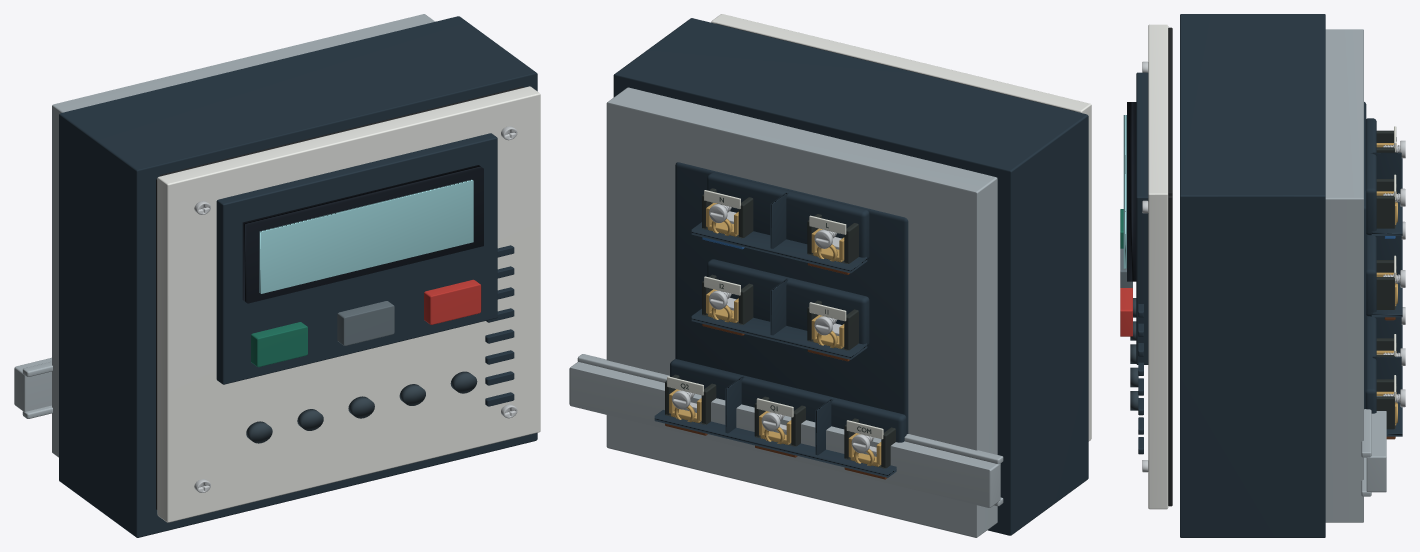
Rendered from plc_default.glb.
3 views of the same model, side by side, from view 1: azimuth 30°, elevation 25°; view 2: azimuth 150°, elevation 25°; view 3: azimuth 270°, elevation 25° (orthographic). The views are drawn at different scales.
Parts seen in each view (by area): view 1: part:body, part:cover, part:cover · Original a463fd81, part:display, part:mounting · Original 2a8198d3, part:body.003, part:body.002, part:body.001, detail:enclosure-gasket-and-fixings · Detail rubber gasket, detail:enclosure-gasket-and-fixings · Detail zinc plated fix; view 2: part:body, part:terminals · Original a463fd81, part:mounting · Original 2a8198d3, part:cover, detail:terminal-clamp:I2 · Detail moulded engineering polyme, detail:terminal-clamp:I1 · Detail moulded engineering polyme, detail:terminal-clamp:N · Detail moulded engineering polymer, detail:terminal-clamp:L · Detail moulded engineering polymer, detail:terminal-clamp:COM · Detail moulded engineering polym, detail:terminal-clamp:Q1 · Detail moulded engineering polyme, detail:terminal-clamp:Q2 · Detail moulded engineering polyme; view 3: part:body, part:cover, part:terminals · Original a463fd81, part:cover · Original a463fd81, part:display, detail:enclosure-gasket-and-fixings · Detail rubber gasket, part:mounting · Original 2a8198d3, detail:terminal-clamp:N · Detail moulded engineering polymer, detail:terminal-clamp:I2 · Detail moulded engineering polyme, detail:terminal-clamp:Q2 · Detail moulded engineering polyme, part:body.003.
Part boxes in pixels (x1,y1,x2,y2): part:body: (52,14,537,537); part:cover: (157,86,540,522); part:cover · Original a463fd81: (216,133,514,406); part:display: (242,165,483,303); part:mounting · Original 2a8198d3: (14,357,52,418); part:body.003: (424,279,481,324); part:body.002: (337,301,394,345); part:body.001: (251,322,307,367); detail:enclosure-gasket-and-fixings · Detail rubber gasket: (156,86,523,509); detail:enclosure-gasket-and-fixings · Detail zinc plated fix: (194,126,517,492); part:body: (606,18,1088,537); part:terminals · Original a463fd81: (654,162,908,477); part:mounting · Original 2a8198d3: (569,354,1003,507); part:cover: (711,14,1091,441); detail:terminal-clamp:I2 · Detail moulded engineering polyme: (702,274,753,324); detail:terminal-clamp:I1 · Detail moulded engineering polyme: (807,300,858,350); detail:terminal-clamp:N · Detail moulded engineering polymer: (702,188,753,238); detail:terminal-clamp:L · Detail moulded engineering polymer: (807,214,858,263); detail:terminal-clamp:COM · Detail moulded engineering polym: (844,418,895,468); detail:terminal-clamp:Q1 · Detail moulded engineering polyme: (754,396,805,446); detail:terminal-clamp:Q2 · Detail moulded engineering polyme: (665,374,716,424); part:body: (1180,14,1363,537); part:cover: (1148,24,1168,509); part:terminals · Original a463fd81: (1364,102,1402,436); part:cover · Original a463fd81: (1136,72,1148,454); part:display: (1123,102,1136,281); detail:enclosure-gasket-and-fixings · Detail rubber gasket: (1168,27,1172,506); part:mounting · Original 2a8198d3: (1361,354,1386,496); detail:terminal-clamp:N · Detail moulded engineering polymer: (1376,179,1395,228); detail:terminal-clamp:I2 · Detail moulded engineering polyme: (1376,260,1395,309); detail:terminal-clamp:Q2 · Detail moulded engineering polyme: (1376,379,1395,429); part:body.003: (1120,288,1132,336).
Size of the model in its own units: 1.33 by 1.1 by 0.8309.
